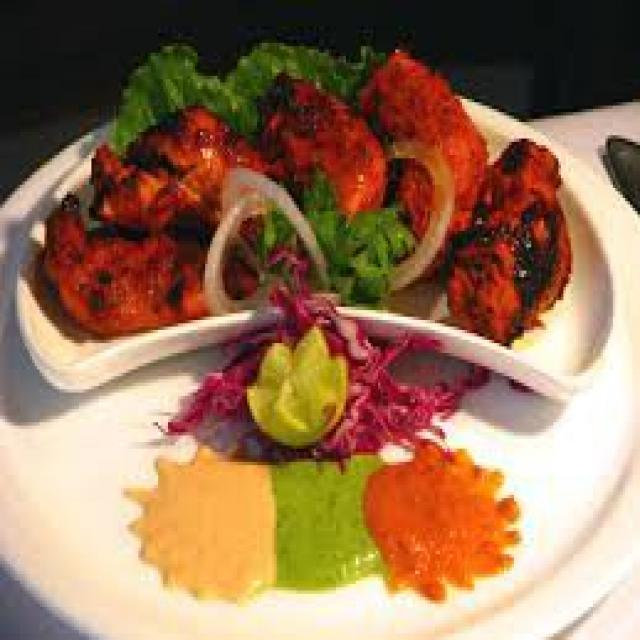Chicken Tikka: (40, 36, 572, 344)
